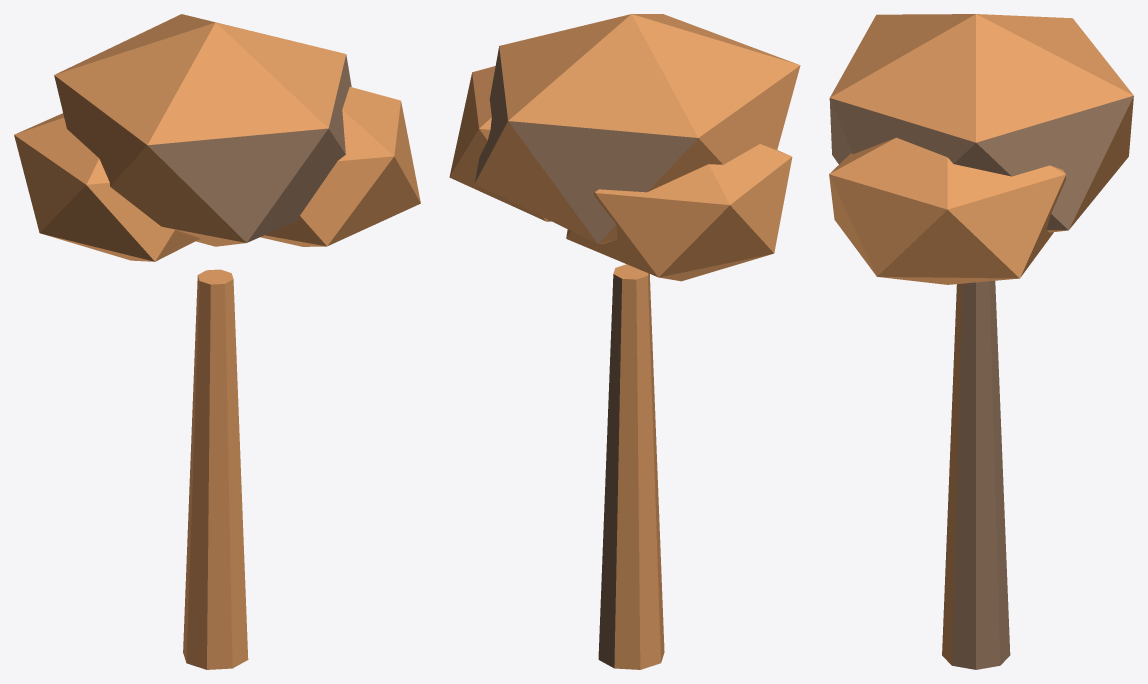
The model's file is TREE-autumn-08.glb.
3 views of the same model, side by side, from view 1: azimuth 30°, elevation 25°; view 2: azimuth 150°, elevation 25°; view 3: azimuth 270°, elevation 25° (orthographic).
Parts seen in each view (by area): view 1: TREE-autumn-08; view 2: TREE-autumn-08; view 3: TREE-autumn-08.
Part boxes in pixels (left/top/right/bottom): TREE-autumn-08: left=14, top=14, right=420, bottom=669; TREE-autumn-08: left=449, top=14, right=800, bottom=669; TREE-autumn-08: left=829, top=14, right=1133, bottom=669.
Bounding box in the file's own units: 2.71 × 4.97 × 2.14.
